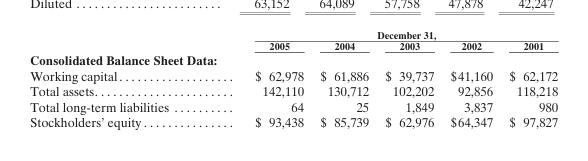table: (29, 28, 557, 129)
table column: (29, 28, 211, 129), (211, 28, 311, 129), (311, 28, 376, 129), (376, 28, 441, 129), (441, 28, 500, 129), (500, 28, 557, 129)
table column header: (29, 28, 557, 51)
table projected row header: (29, 51, 557, 67)
table row: (29, 51, 557, 67), (29, 82, 557, 98), (29, 98, 557, 114), (29, 67, 557, 82), (29, 114, 557, 129), (29, 28, 557, 40), (29, 40, 557, 51)
table spanning cell: (211, 28, 557, 40)
